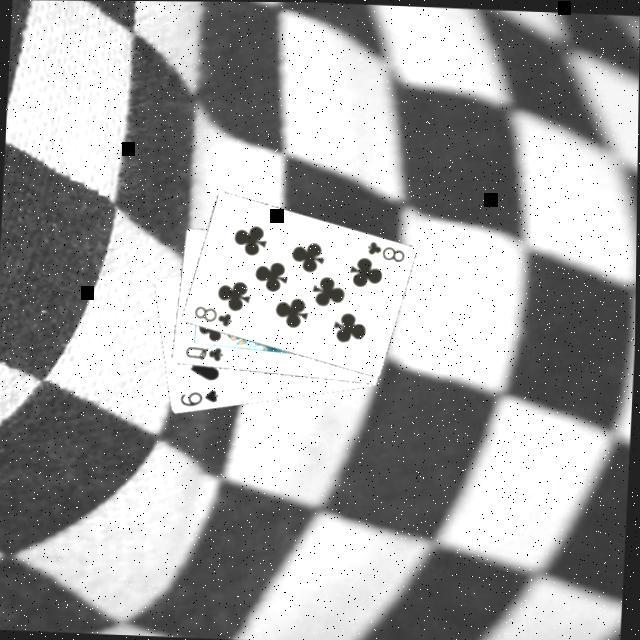6S: (178, 384, 224, 409)
8C: (192, 302, 236, 330), (364, 236, 408, 264)
QC: (183, 342, 228, 362)
